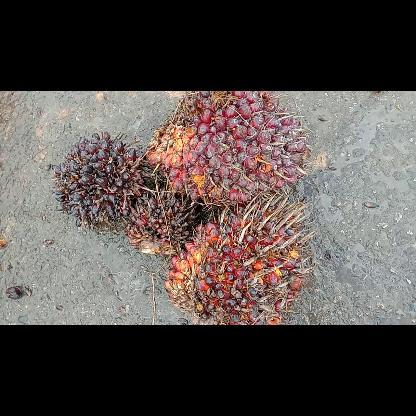TBS abnormal: (51, 128, 155, 234), (122, 186, 196, 258)
TBS masak: (143, 92, 311, 206), (162, 202, 316, 324)
